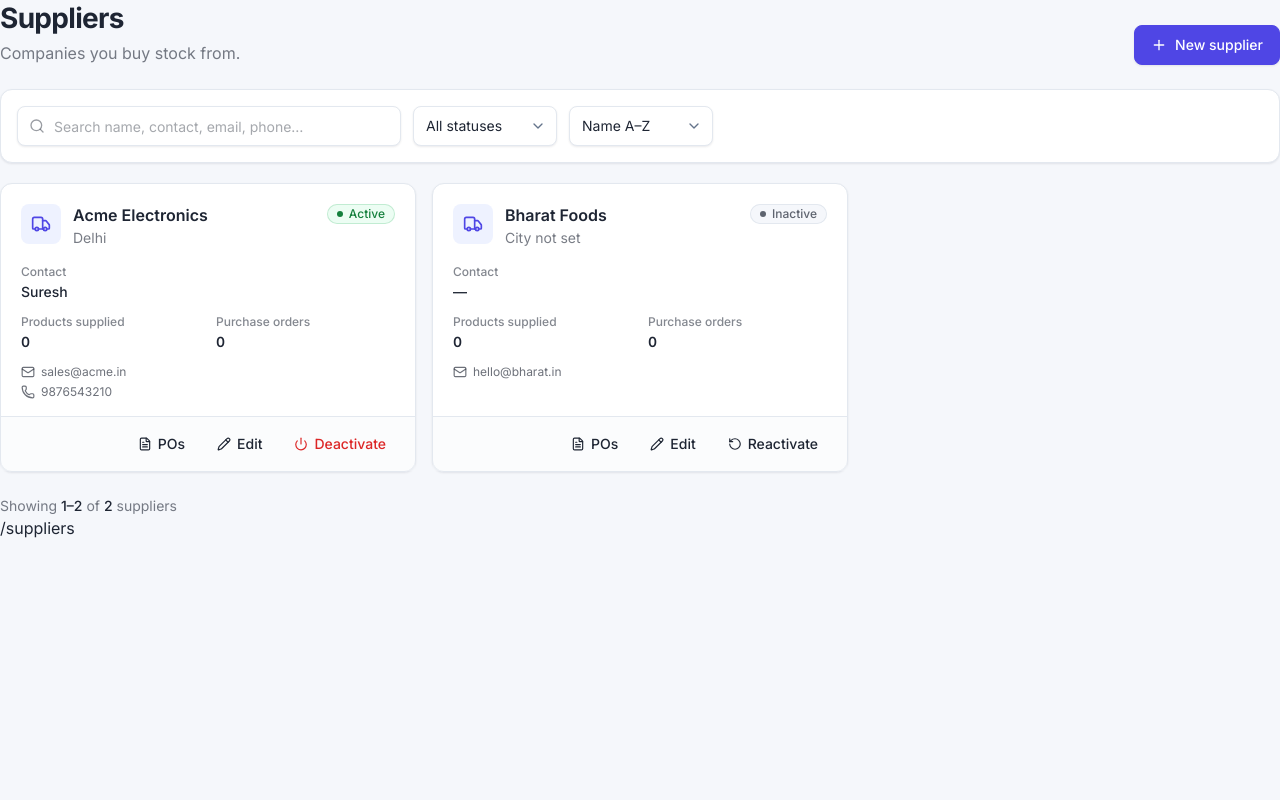
Test: SuppliersPage › creates a supplier; an empty phone is not sent
Expected: the heading "Acme Electronics" is shown, [73,205,208,225]
Click the button "New supplier". click: (1207, 45)
box: [1134,25,1279,65]
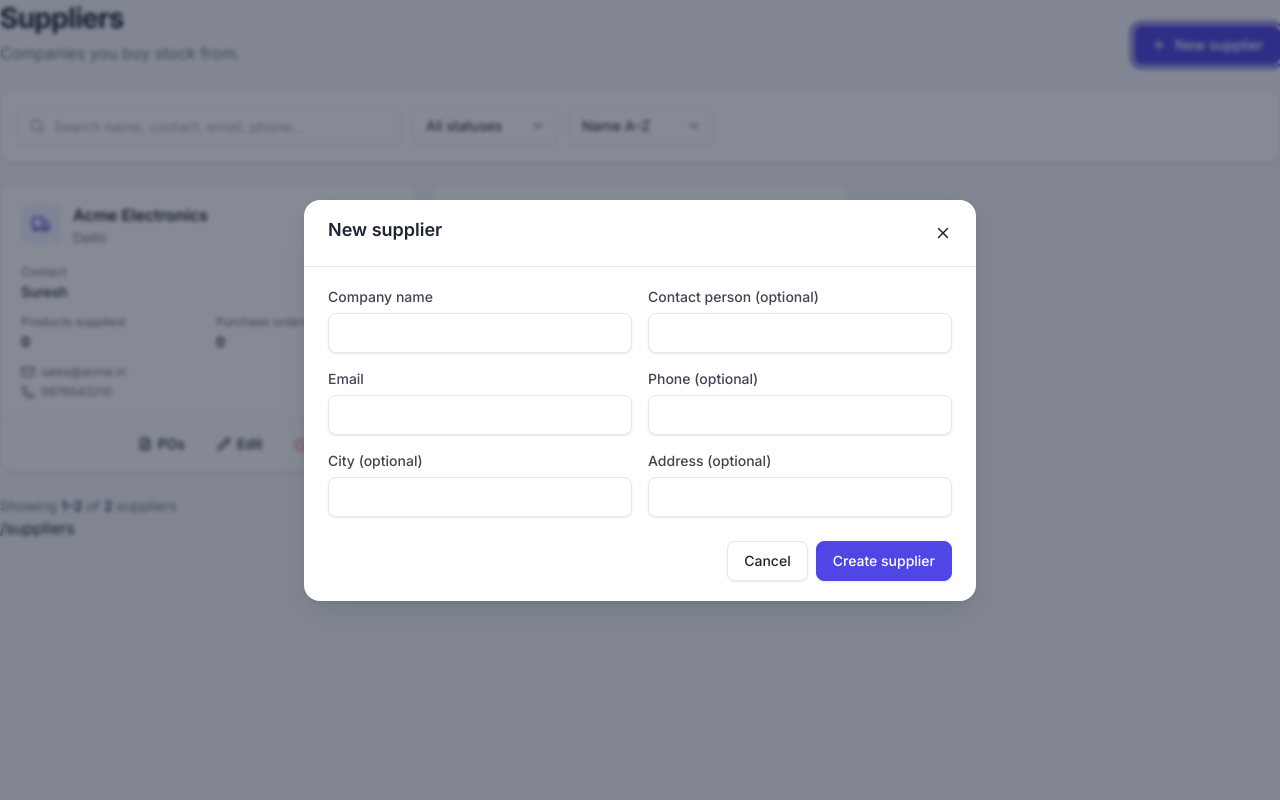
Type "Zen Traders" into the field labelled "Company name". click: (480, 332)
box: [328,312,632,352]
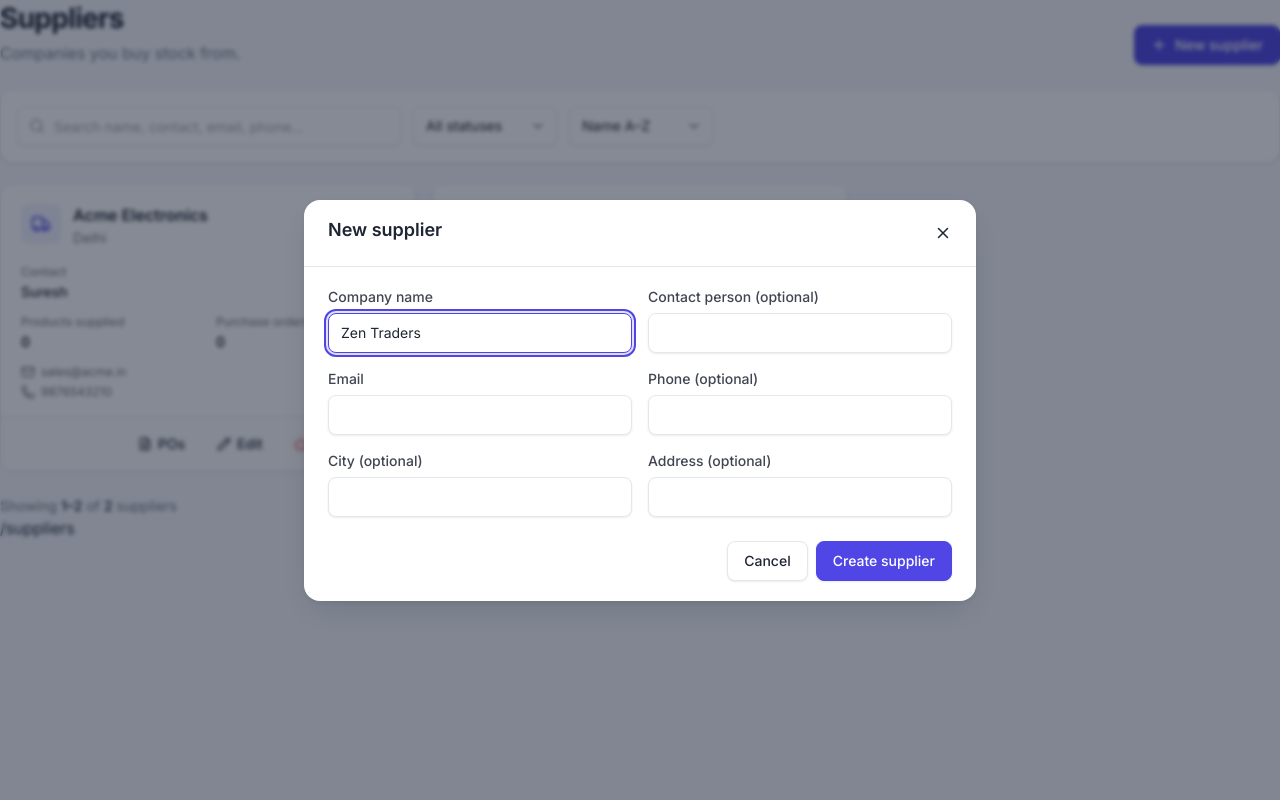
Type "zen@traders.in" into the field labelled "Email". click: (480, 414)
box: [328,394,632,434]
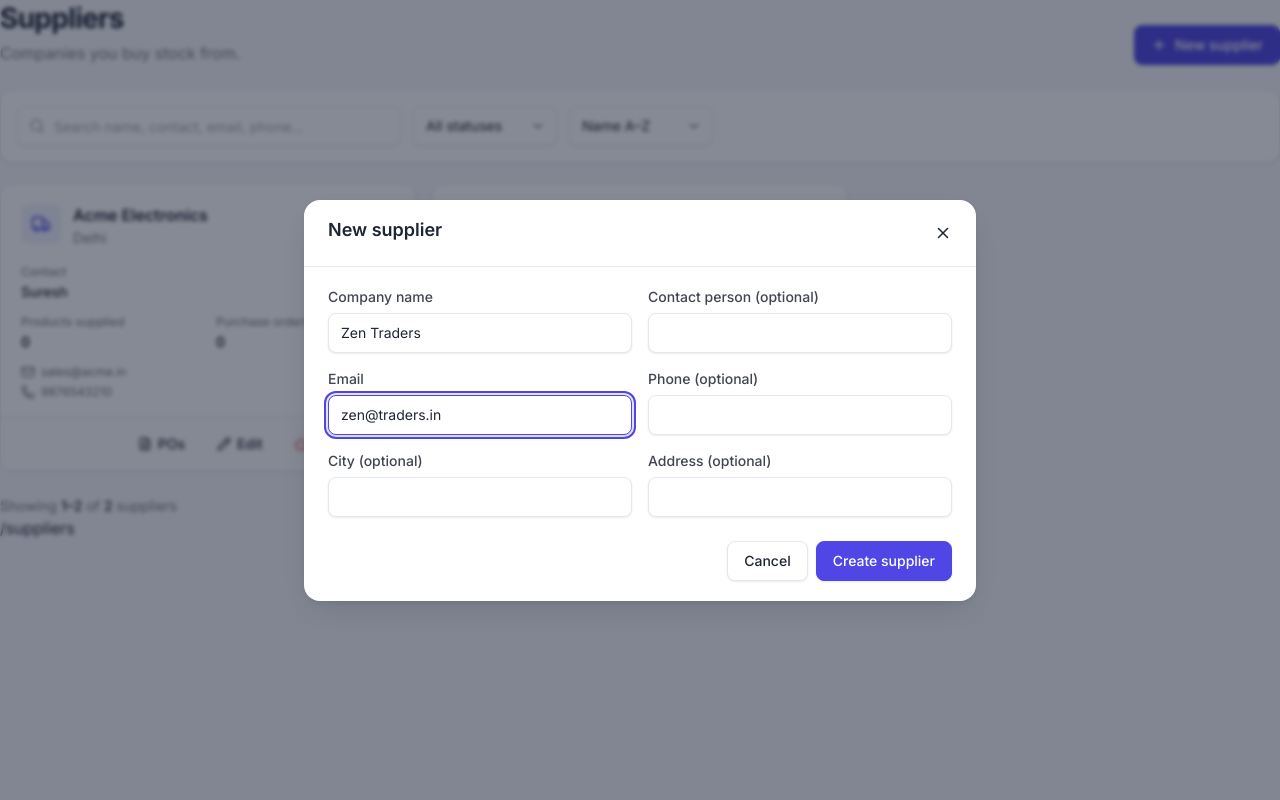
Click the button "Create supplier". click: (884, 560)
box: [816,540,952,580]
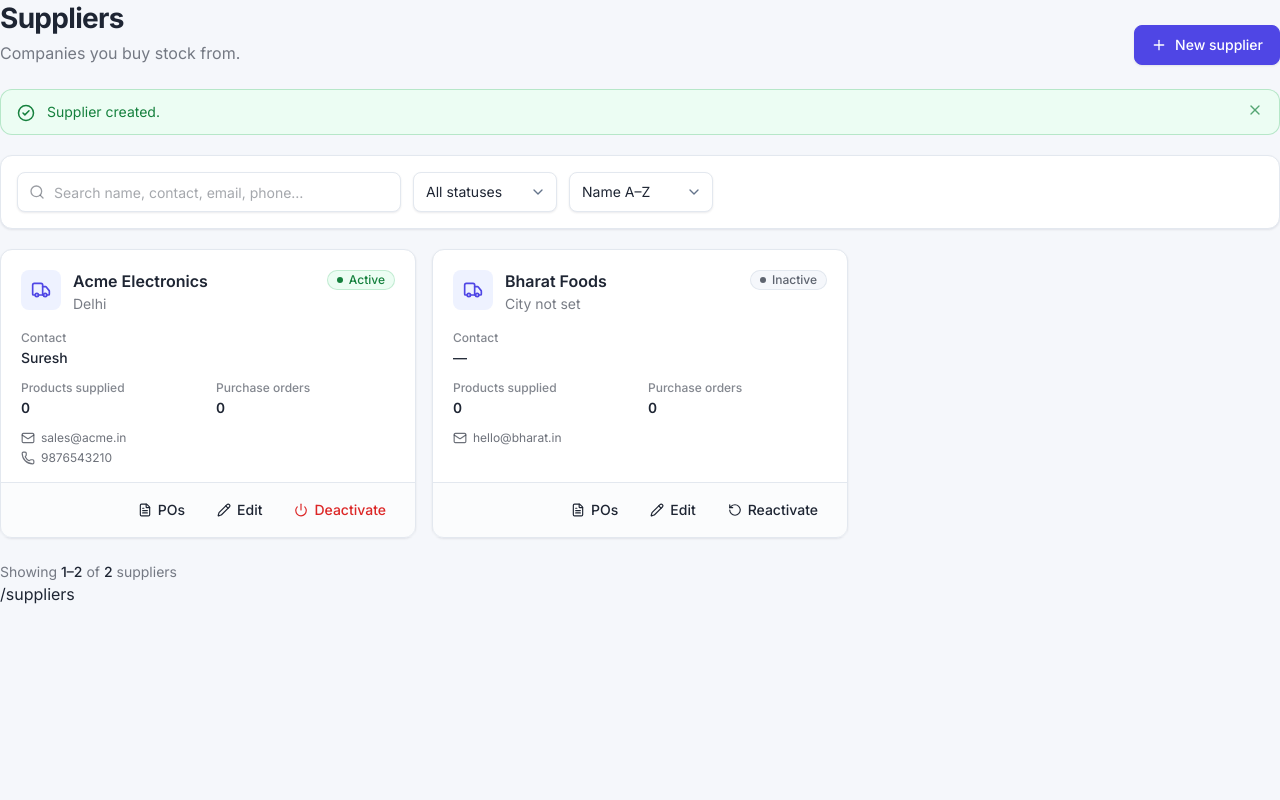
Expected: the text "Supplier created." is shown, [47,103,160,120]
